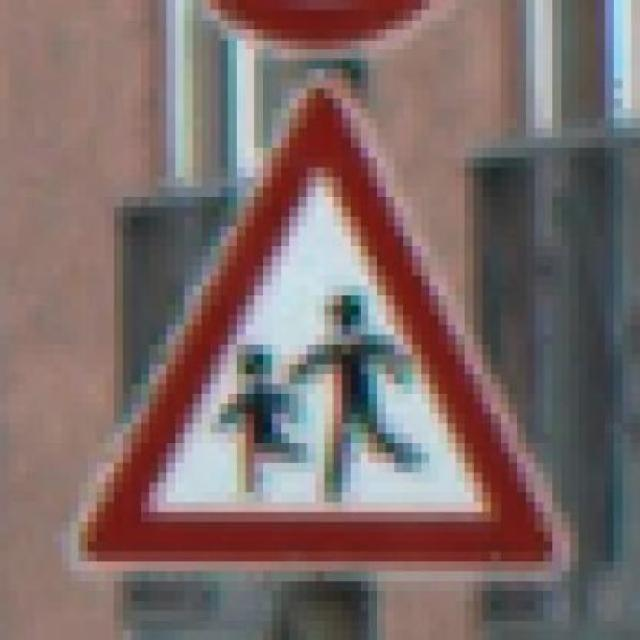Beware of children: (61, 69, 570, 591)
